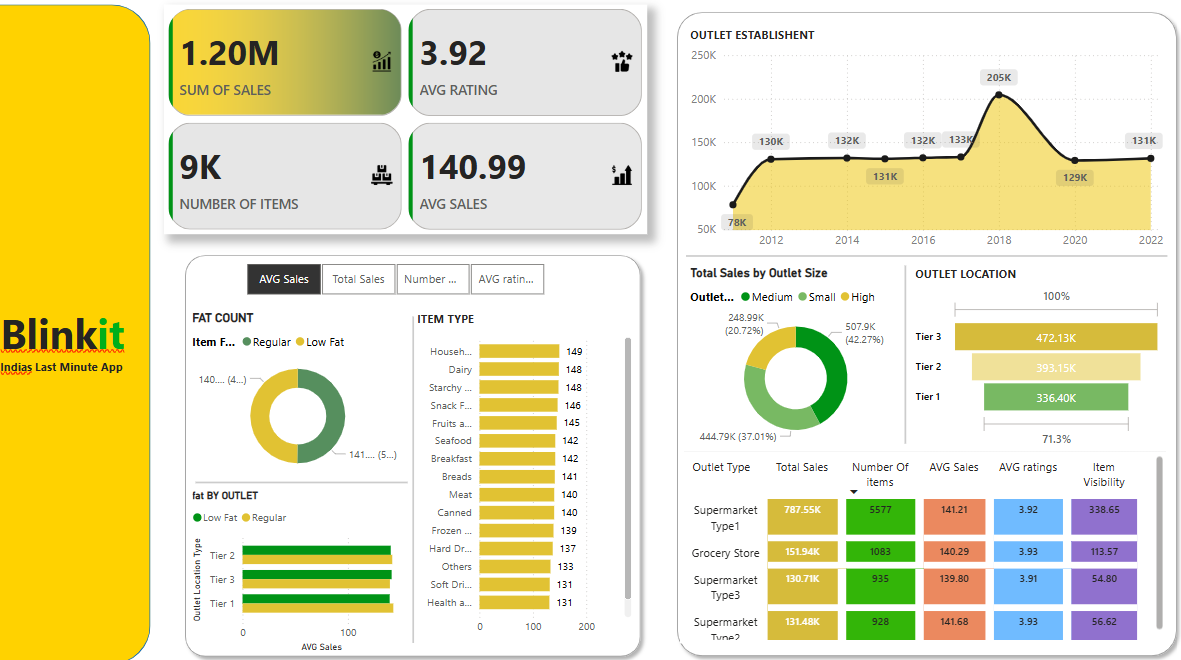

The dashboard page shown, as its layout file describes it:
{"tool":"powerbi","page":{"name":"Page 1","canvas":[1400,800],"ordinal":0},"visuals":[{"type":"shape","box":[0,23,182,777.6],"z":0},{"type":"textbox","box":[289.1,640.6,281.6,79.4],"z":1000},{"type":"textbox","box":[0,371.1,175,83.1],"z":2000},{"type":"textbox","box":[0,434.8,155.5,33.6],"z":3000},{"type":"cardVisual","fields":{"Data":["Sum(BlinkIT Grocery Data.Sales)","BlinkIT Grocery Data.AVG ratings","BlinkIT Grocery Data.Number Of items","BlinkIT Grocery Data.AVG Sales"]},"box":[198.8,22.3,569.4,270.4],"z":4000},{"type":"shape","box":[213.8,309.3,554.9,491.3],"z":5000},{"type":"donutChart","title":"FAT COUNT","fields":{"Y":["BlinkIT Grocery Data.AVG Sales"],"Category":["BlinkIT Grocery Data.Item Fat Content"]},"box":[226.2,383.5,258,203.2],"z":6000},{"type":"slicer","fields":{"Values":["MTERICS.MTERICS"]},"box":[270.4,321.7,399.4,49.5],"z":7000},{"type":"clusteredBarChart","title":"fat BY OUTLET","fields":{"Y":["BlinkIT Grocery Data.AVG Sales"],"Series":["BlinkIT Grocery Data.Item Fat Content"],"Category":["BlinkIT Grocery Data.Outlet Location Type"]},"box":[226.2,593.8,265.4,196.2],"z":8000},{"type":"shape","box":[234.4,576.7,250,20],"z":9000},{"type":"barChart","title":" ITEM TYPE","fields":{"Y":["BlinkIT Grocery Data.AVG Sales"],"Category":["BlinkIT Grocery Data.Item Type"]},"box":[492,384,262,390],"z":10000},{"type":"shape","box":[448.9,390,85.6,384.4],"z":11000},{"type":"shape","box":[793.3,23.3,606.7,776.7],"z":12000},{"type":"lineChart","title":" OUTLET ESTABLISHENT","fields":{"Y":["BlinkIT Grocery Data.Total Sales"],"Category":["BlinkIT Grocery Data.Outlet Establishment Year"]},"box":[812.5,50,567.5,270],"z":13000},{"type":"shape","box":[812.9,310,567.1,20],"z":14000},{"type":"donutChart","fields":{"Y":["BlinkIT Grocery Data.Total Sales"],"Category":["BlinkIT Grocery Data.Outlet Size"]},"box":[812.9,330,258.6,220],"z":15000},{"type":"funnel","title":"OUTLET LOCATION","fields":{"Category":["BlinkIT Grocery Data.Outlet Location Type"],"Y":["Sum(BlinkIT Grocery Data.Sales)"]},"box":[1078.6,330,300,220],"z":16000},{"type":"shape","box":[811.4,540,567.1,20],"z":17000},{"type":"shape","box":[1028.6,330,85.7,210],"z":18000},{"type":"pivotTable","fields":{"Rows":["BlinkIT Grocery Data.Outlet Type"],"Values":["BlinkIT Grocery Data.Total Sales","BlinkIT Grocery Data.Number Of items","BlinkIT Grocery Data.AVG Sales","BlinkIT Grocery Data.AVG ratings","Sum(BlinkIT Grocery Data.Item Visibility)"]},"box":[805.9,549.6,574.4,226.2],"z":19000}]}

Visuals, with their boxes in screenshot pixels (x1, y1, x2, y2), scaled from the page's 1400x800 canvas onto the 1181x660 screenshot:
shape: 0,19,154,659
textbox: 244,528,481,594
textbox: 0,306,148,375
textbox: 0,359,131,386
cardVisual - Sum(BlinkIT Grocery Data.Sales) x BlinkIT Grocery Data.AVG ratings: 168,18,648,241
shape: 180,255,648,659
"FAT COUNT" donutChart: 191,316,408,484
slicer - MTERICS.MTERICS: 228,265,565,306
"fat BY OUTLET" clusteredBarChart: 191,490,415,652
shape: 198,476,409,492
" ITEM TYPE" barChart: 415,317,636,639
shape: 379,322,451,639
shape: 669,19,1180,659
" OUTLET ESTABLISHENT" lineChart: 685,41,1164,264
shape: 686,256,1164,272
donutChart - BlinkIT Grocery Data.Total Sales x BlinkIT Grocery Data.Outlet Size: 686,272,904,454
"OUTLET LOCATION" funnel: 910,272,1163,454
shape: 684,446,1163,462
shape: 868,272,940,446
pivotTable - BlinkIT Grocery Data.Outlet Type x BlinkIT Grocery Data.Total Sales: 680,453,1164,640
